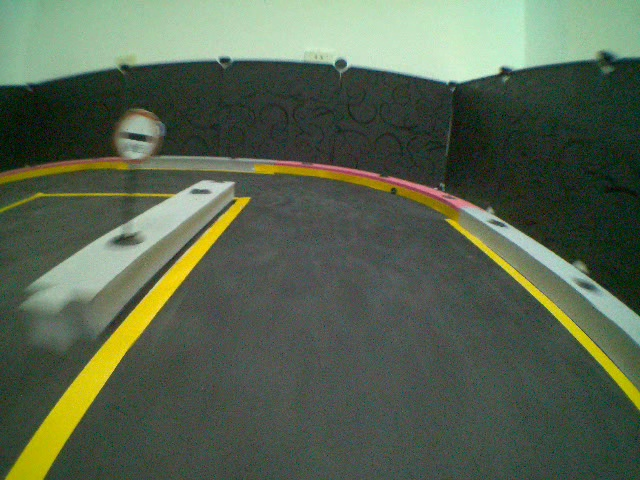Check: (113, 109, 161, 164)
